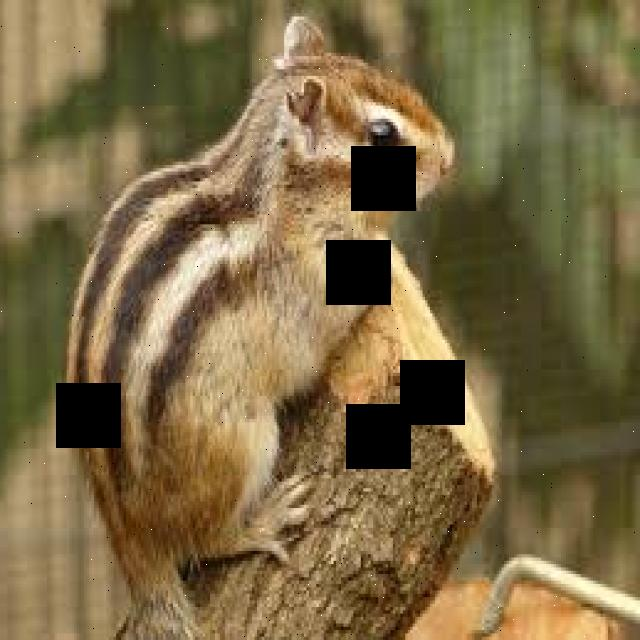squirrel: (64, 13, 497, 637)
